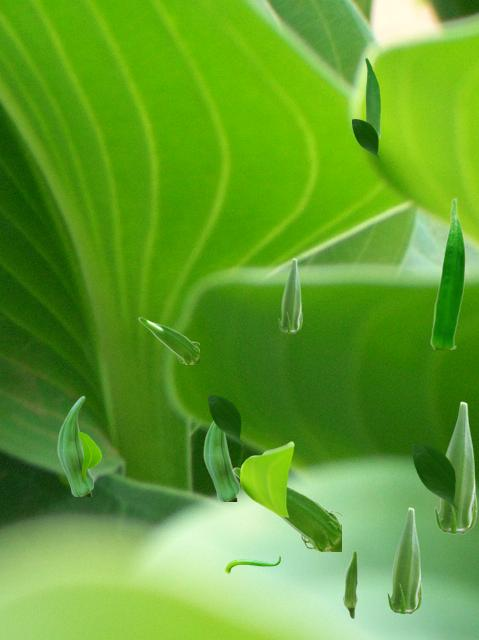okra: (232, 467, 340, 550), (434, 401, 476, 533), (430, 197, 465, 348), (387, 507, 421, 613), (57, 395, 92, 495), (203, 421, 238, 500), (138, 317, 198, 363), (278, 258, 301, 332), (365, 57, 379, 138), (342, 550, 357, 618), (224, 556, 279, 572)
